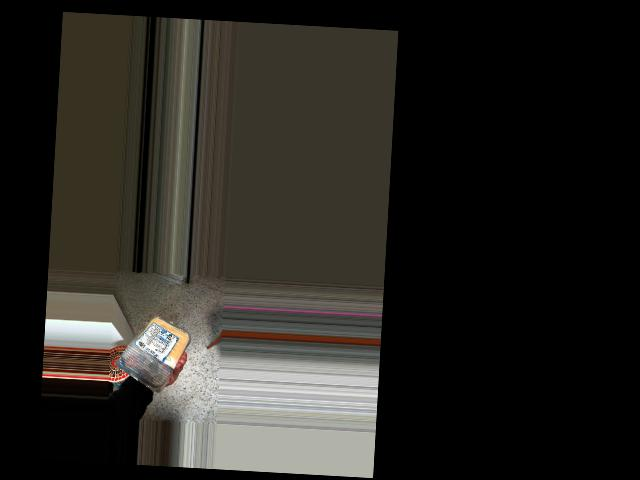cheese: (116, 308, 184, 388)
